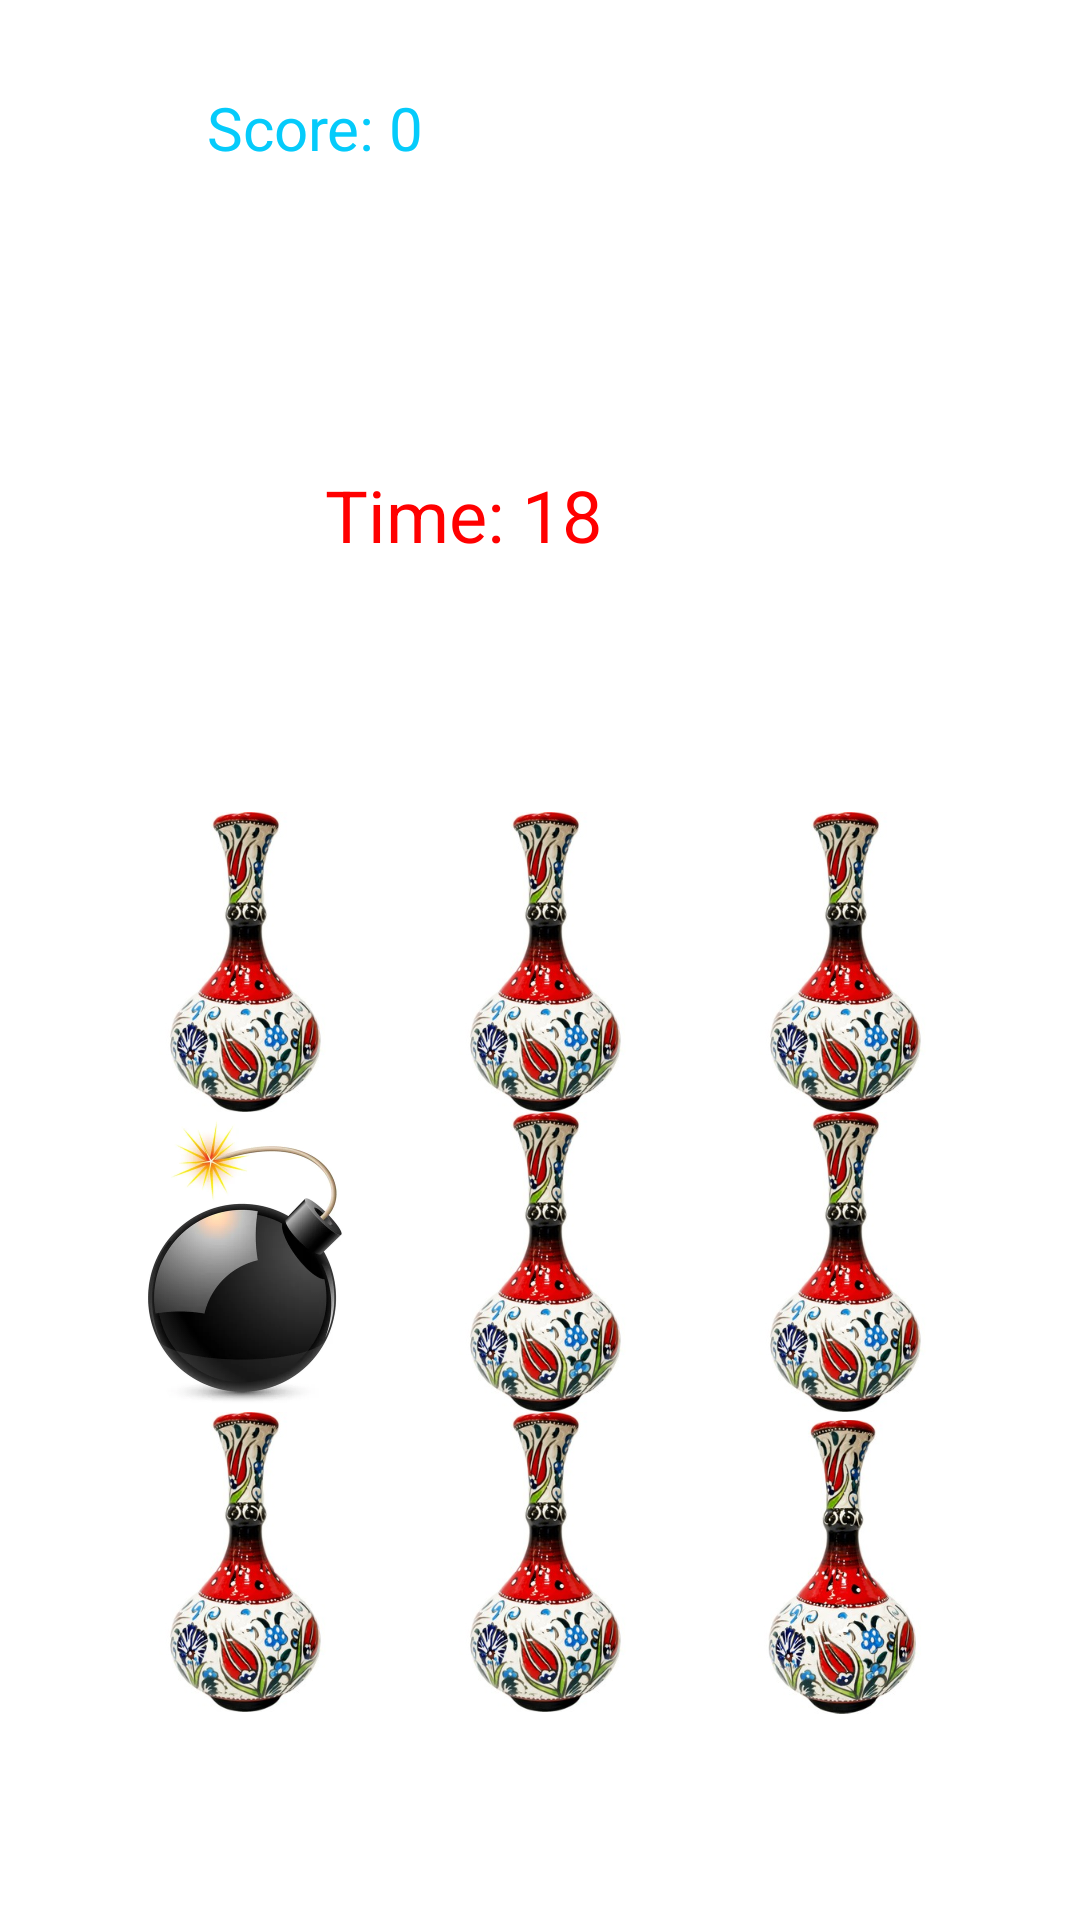

Icons on this 1080×1920 Android screen, each with the point to tap as (x=x, y=y):
bomba: (x=245, y=1260)
vazo: (x=245, y=962), (x=545, y=962), (x=845, y=962), (x=545, y=1262), (x=845, y=1262), (x=245, y=1562), (x=545, y=1562), (x=842, y=1567)
